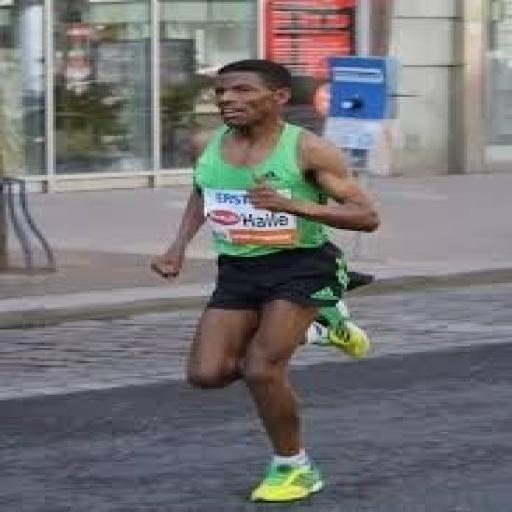running: (146, 58, 384, 504)
